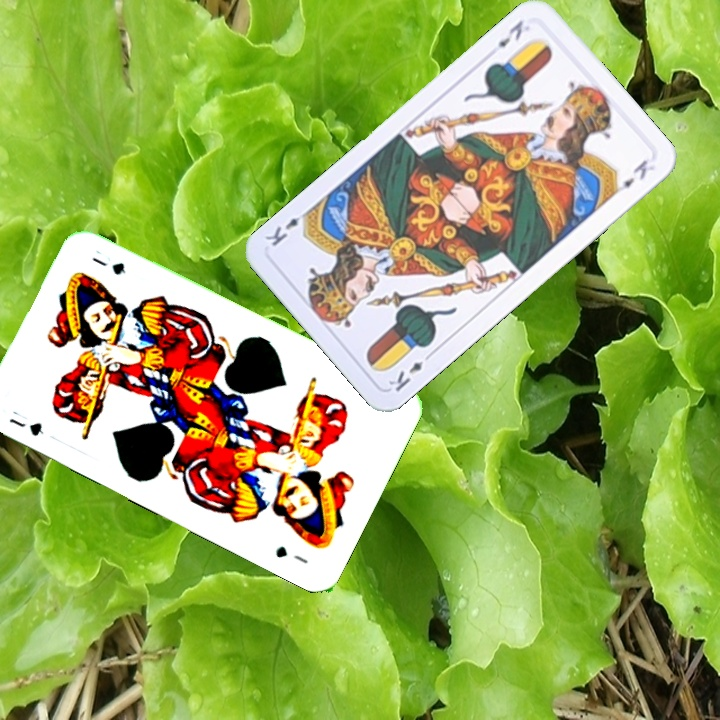EK: (385, 348, 436, 394), (493, 16, 526, 50)
GU: (5, 414, 47, 439)
